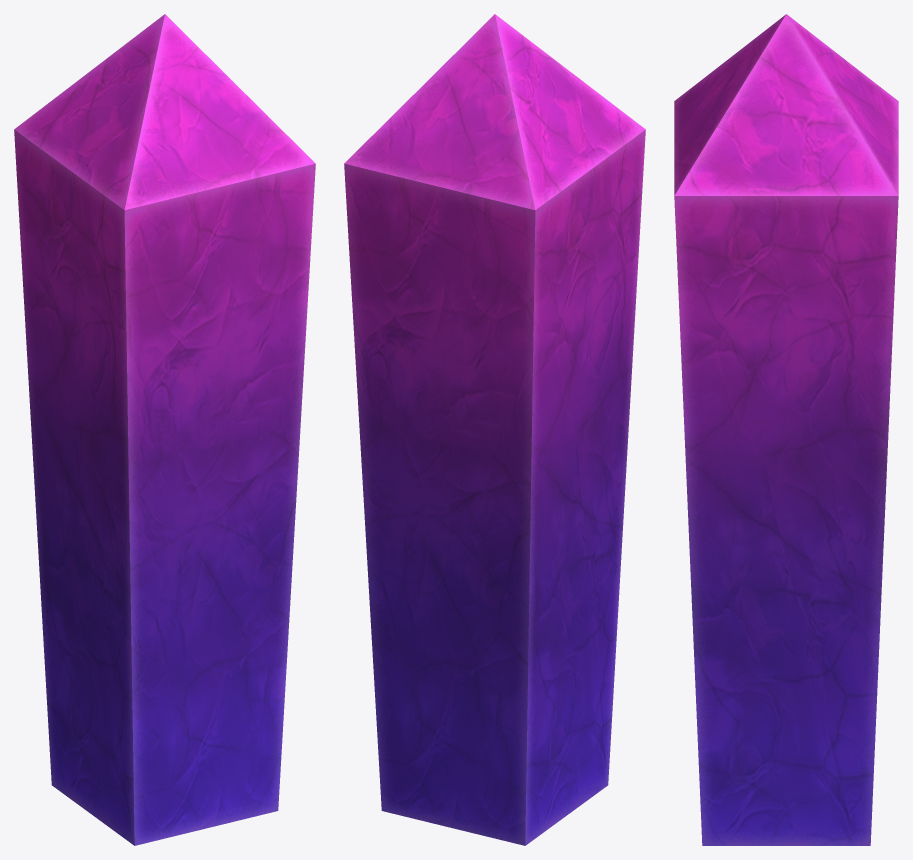
The model's file is Crystal.fbx.
3 views of the same model, side by side, from view 1: azimuth 30°, elevation 25°; view 2: azimuth 150°, elevation 25°; view 3: azimuth 270°, elevation 25° (orthographic).
Visible parts, largest first — view 1: Cristal; view 2: Cristal; view 3: Cristal.
Part boxes in pixels (<box>): Cristal: <box>14,14,315,845</box>; Cristal: <box>344,14,645,845</box>; Cristal: <box>674,14,898,845</box>.
Bounding box in the file's own units: 131 × 513 × 131.
